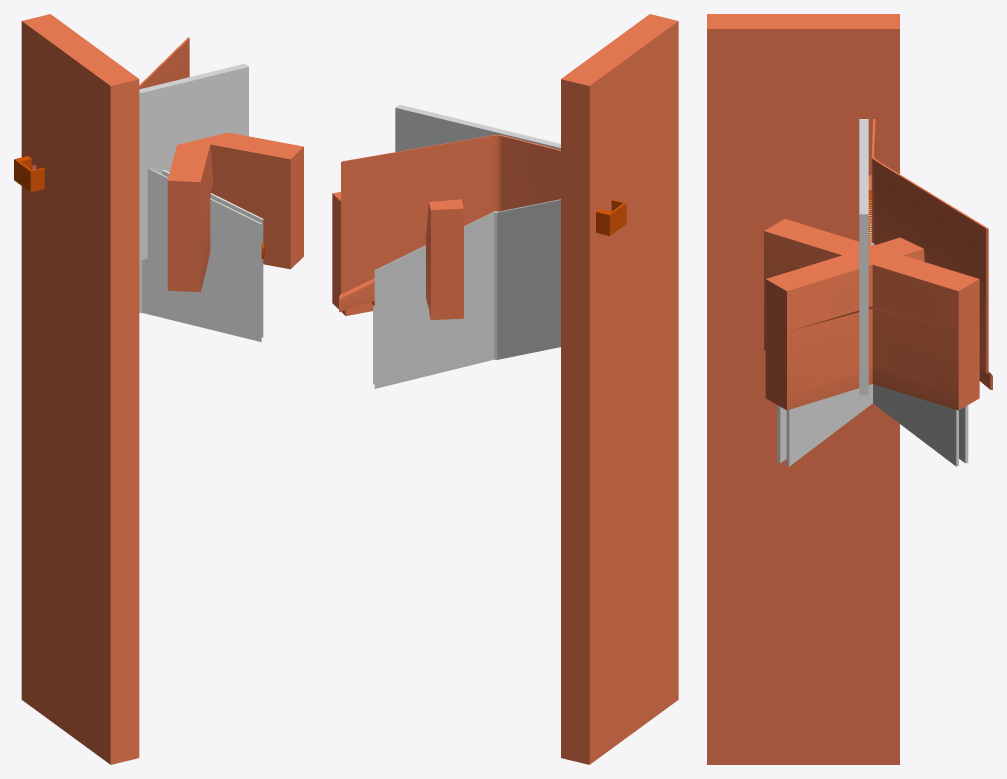
Rendered from stairs_split.fbx.
The picture shows the model from 3 angles, left to right: view 1: azimuth 30°, elevation 25°; view 2: azimuth 150°, elevation 25°; view 3: azimuth 270°, elevation 25°; orthographic projection. The views are drawn at different scales.
Visible parts, largest first — view 1: wall_2.007, backwal, stairs_1.003, Cube.003, wall_2.006, BLIND_ETNRACE.001; view 2: wall_2.007, stairs_1.003, wall_2.006, backwal, Cube.003, BLIND_ETNRACE.001; view 3: wall_2.007, backwal, wall_2.006, stairs_1.003, Cube.003.
Boxes of the visible parts, bbox=[...] form: wall_2.007: bbox=[21, 14, 139, 764]; backwal: bbox=[167, 132, 303, 292]; stairs_1.003: bbox=[139, 168, 263, 341]; Cube.003: bbox=[139, 63, 248, 260]; wall_2.006: bbox=[139, 37, 189, 89]; BLIND_ETNRACE.001: bbox=[14, 156, 44, 192]; wall_2.007: bbox=[561, 14, 678, 764]; stairs_1.003: bbox=[373, 199, 560, 388]; wall_2.006: bbox=[339, 135, 560, 312]; backwal: bbox=[332, 192, 463, 320]; Cube.003: bbox=[395, 104, 560, 151]; BLIND_ETNRACE.001: bbox=[596, 199, 626, 235]; wall_2.007: bbox=[707, 14, 899, 764]; backwal: bbox=[764, 219, 979, 410]; wall_2.006: bbox=[871, 119, 992, 389]; stairs_1.003: bbox=[777, 243, 968, 466]; Cube.003: bbox=[859, 119, 868, 395].
Bounding box in the file's own units: 1326 × 3522 × 1240.
